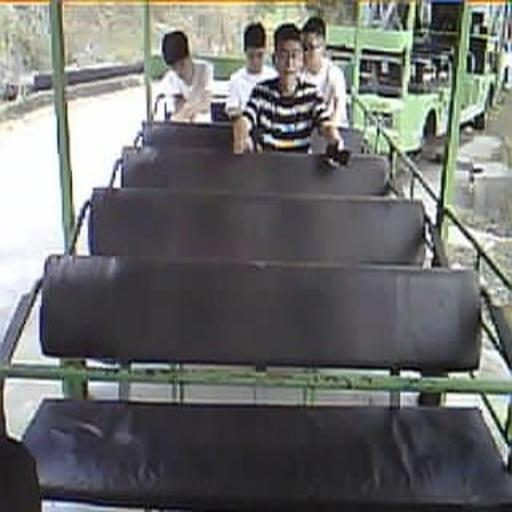persona: (237, 23, 345, 155), (153, 28, 214, 122), (298, 16, 348, 128), (226, 22, 279, 118)
